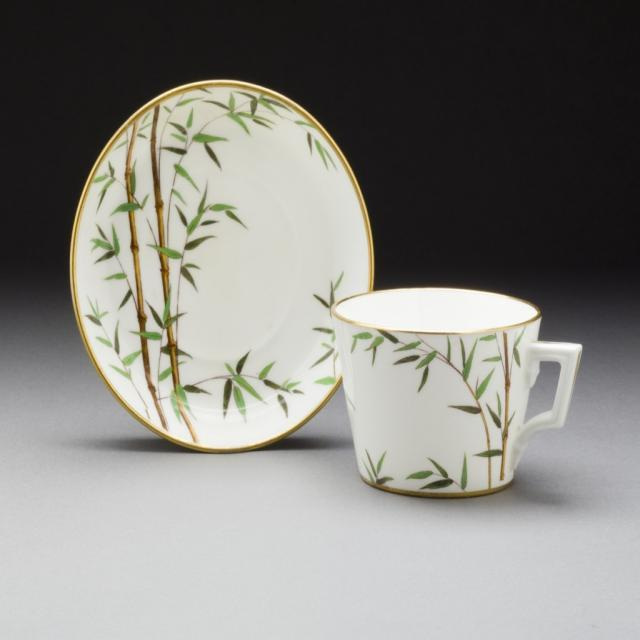ceramic plate: (52, 32, 396, 484)
